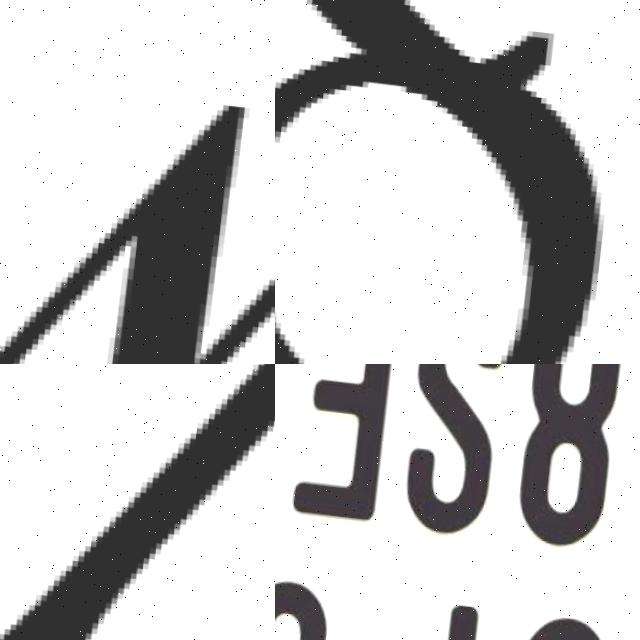8: (514, 364, 630, 553)
F: (287, 364, 404, 521)
Q: (275, 0, 640, 364)
S: (399, 364, 514, 540)
V: (0, 364, 275, 640)
W: (0, 60, 275, 364)
